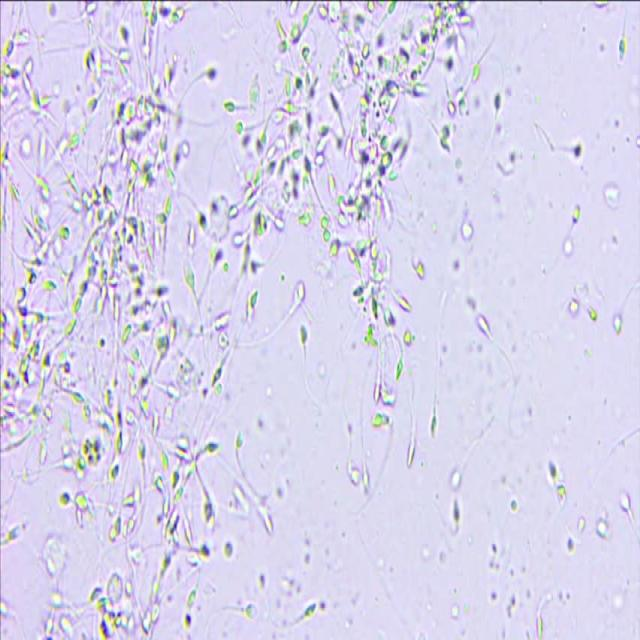Amoeba: (1, 4, 638, 640)
